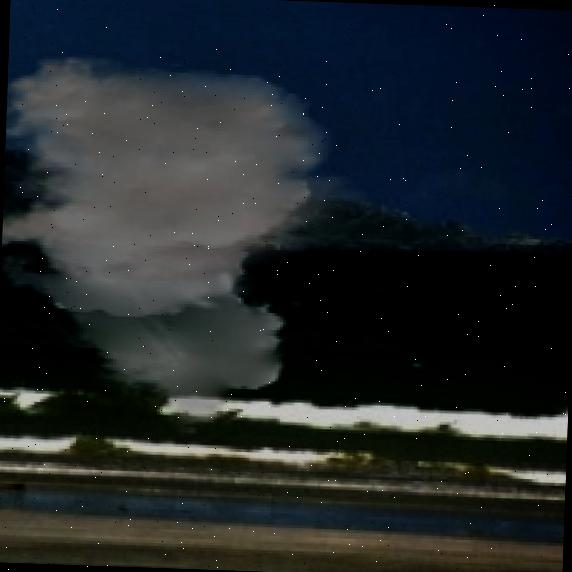smoke: (0, 52, 381, 442)
